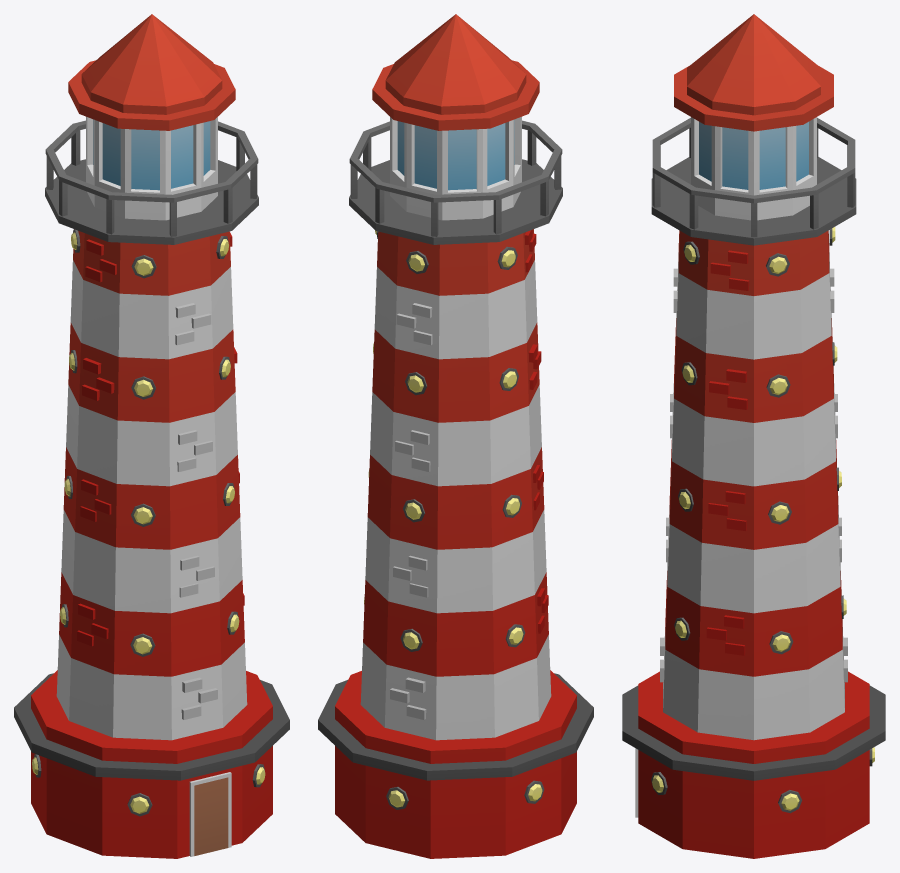
File: lighthouse.glb
3 views of the same model, side by side, from view 1: azimuth 30°, elevation 25°; view 2: azimuth 150°, elevation 25°; view 3: azimuth 270°, elevation 25° (orthographic).
Visible parts, largest first — view 1: lighthouse; view 2: lighthouse; view 3: lighthouse.
Part boxes in pixels (bbox=[...]): lighthouse: bbox=[14, 14, 289, 858]; lighthouse: bbox=[318, 14, 593, 858]; lighthouse: bbox=[622, 14, 885, 858].
Bounding box in the file's own units: 6.57 × 20.75 × 6.24.
1 material, 1 textured.
